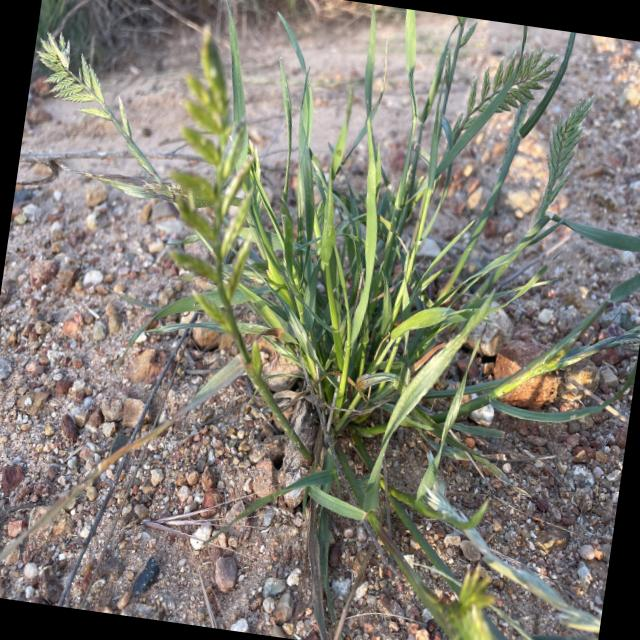Lolium: (109, 0, 630, 504), (139, 26, 303, 380), (442, 36, 558, 148), (28, 24, 122, 120), (540, 88, 601, 206)
